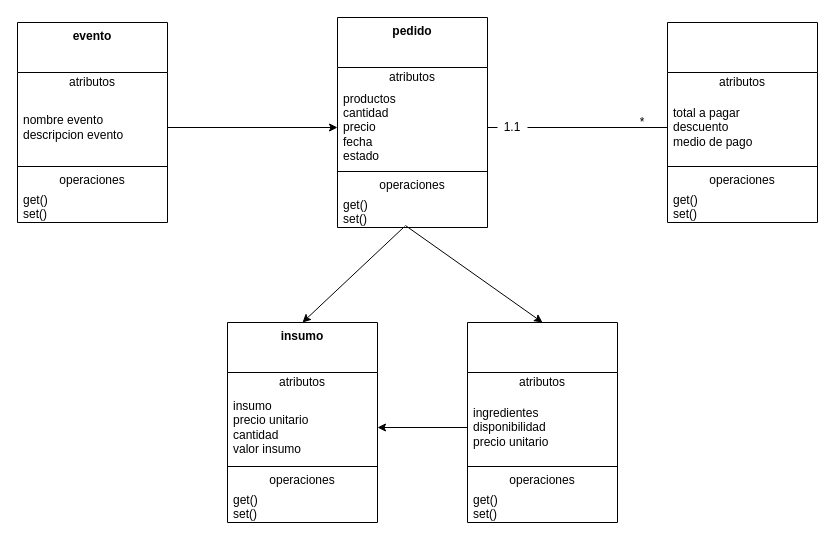
This 835x540 diagram has some shape labels left out. The shapes that lost their labels are listed below. From the top down, each one's box as (x1, y1, x2, y2) in pixels, then its label:
(666, 22, 818, 222): venta
(466, 322, 618, 522): pizza
